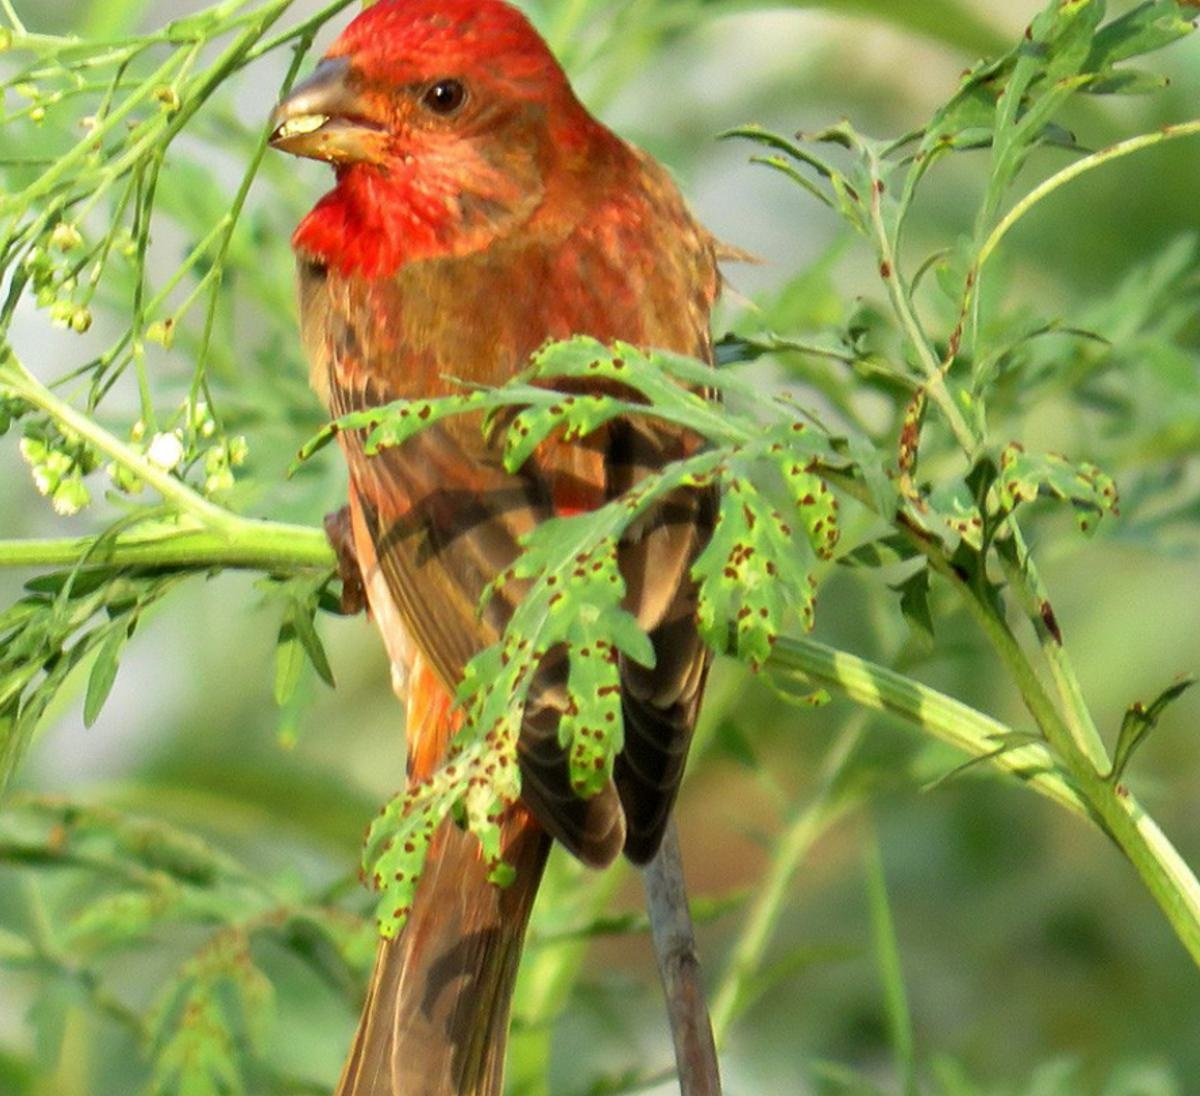rosefinch: (252, 10, 768, 933)
